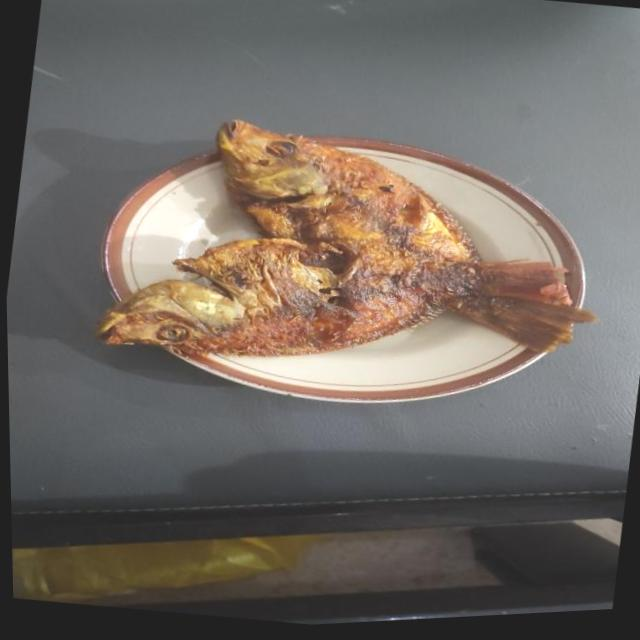ikan_mujair: (215, 120, 595, 350), (100, 238, 568, 356)
